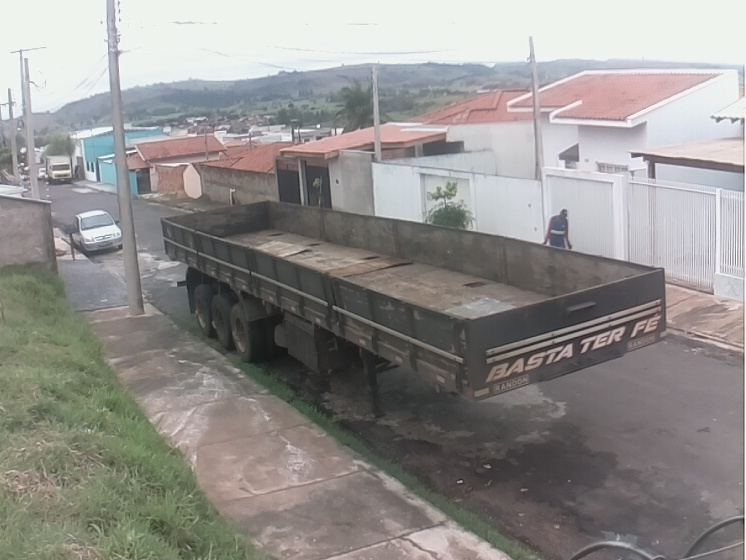person: (538, 206, 575, 252)
